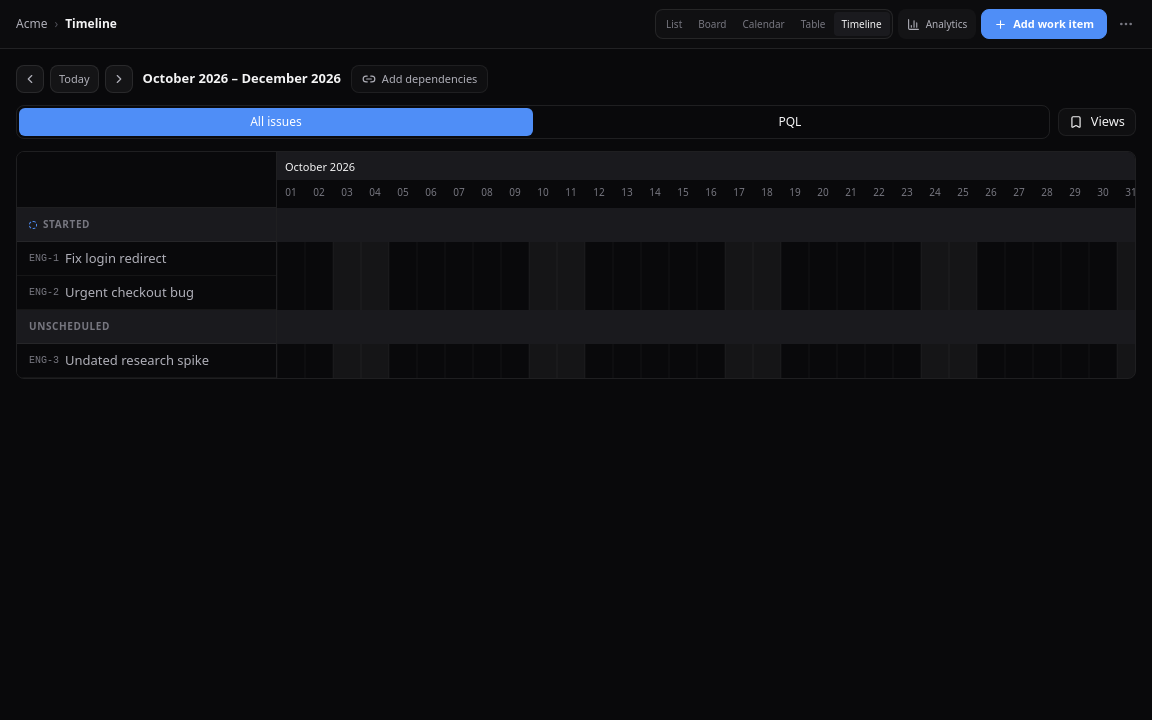
Scenario: Gantt saved views (C110T2) › leaving PQL mode after a view apply restores the unfiltered sets
The image size is (1152, 720).
Check: the text "Fix login redirect" is shown, box [65,249,166,268]
Check: the text "Urgent checkout bug" is shown, box [65,283,194,302]
Click the button with aria-label "Saved views" at (1097, 122), box [1058,108,1136,136]
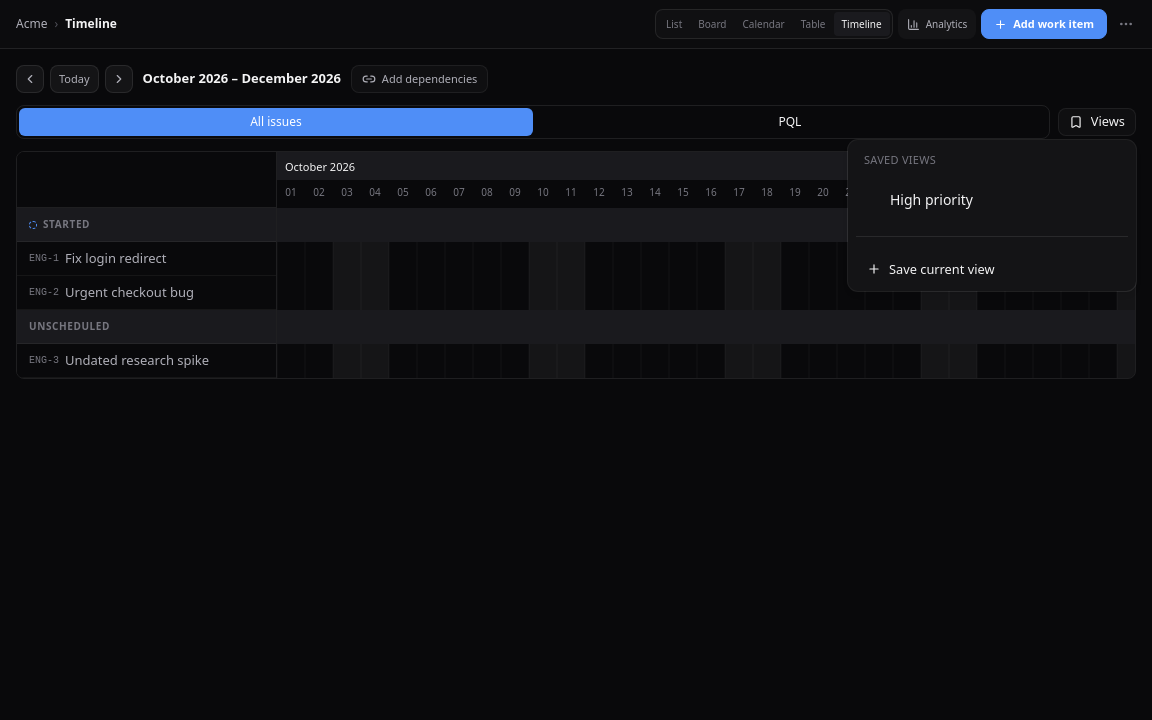
Check: the button "Save current view" is shown, box [856,255,1128,283]
Click the button titled "Apply view “High priority”" at (932, 200), box [860,184,1004,216]
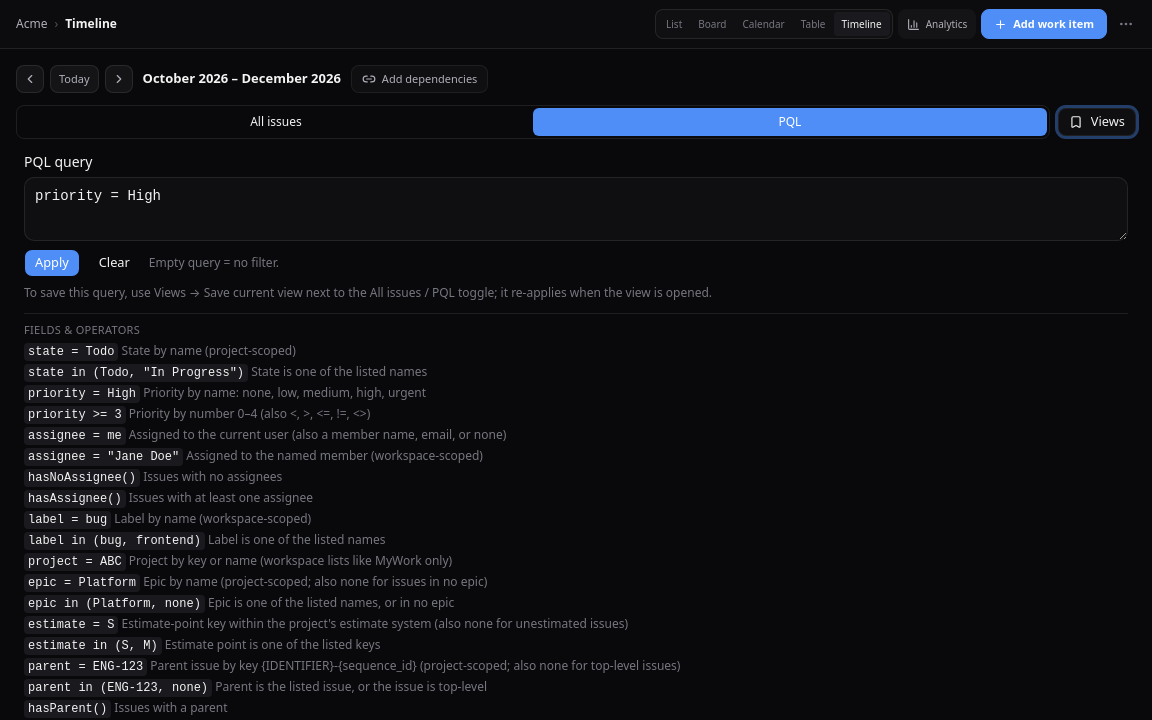
Check: the button "Fix login redirect" is gone
Click the button "All issues" at (276, 122), box [19,108,533,136]
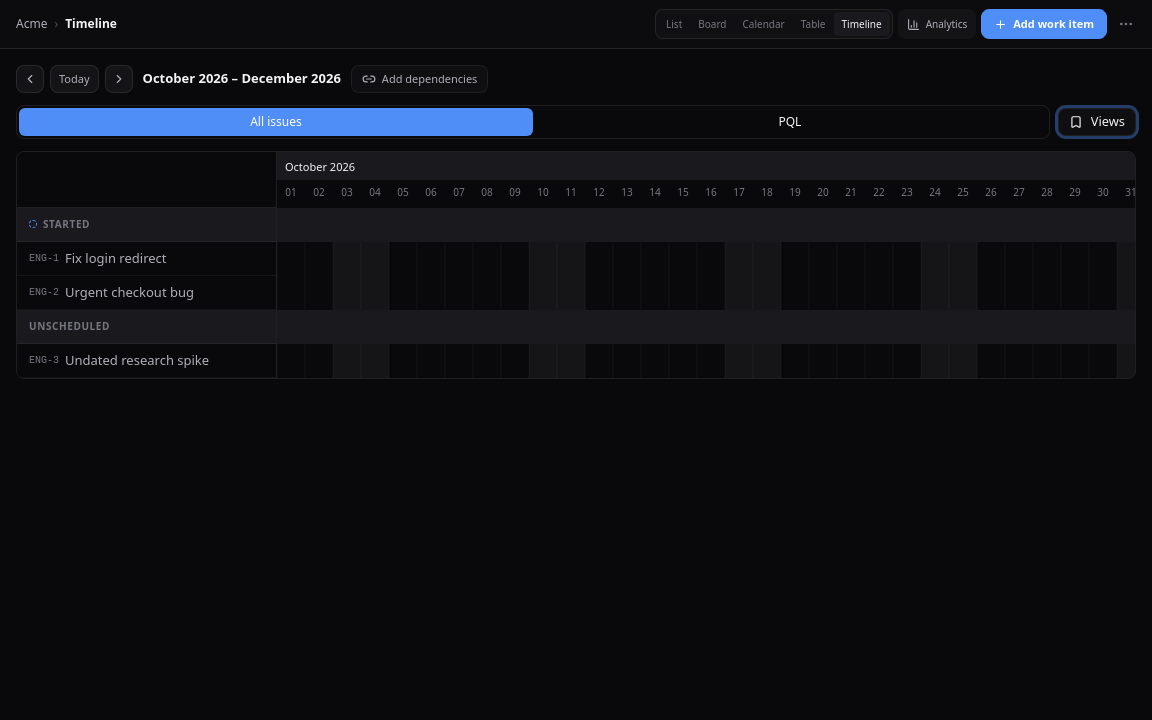
Check: the text "Fix login redirect" is shown, box [65,249,166,268]
Check: the text "Urgent checkout bug" is shown, box [65,283,194,302]
Check: the text "Undated research spike" is shown, box [65,351,209,370]
